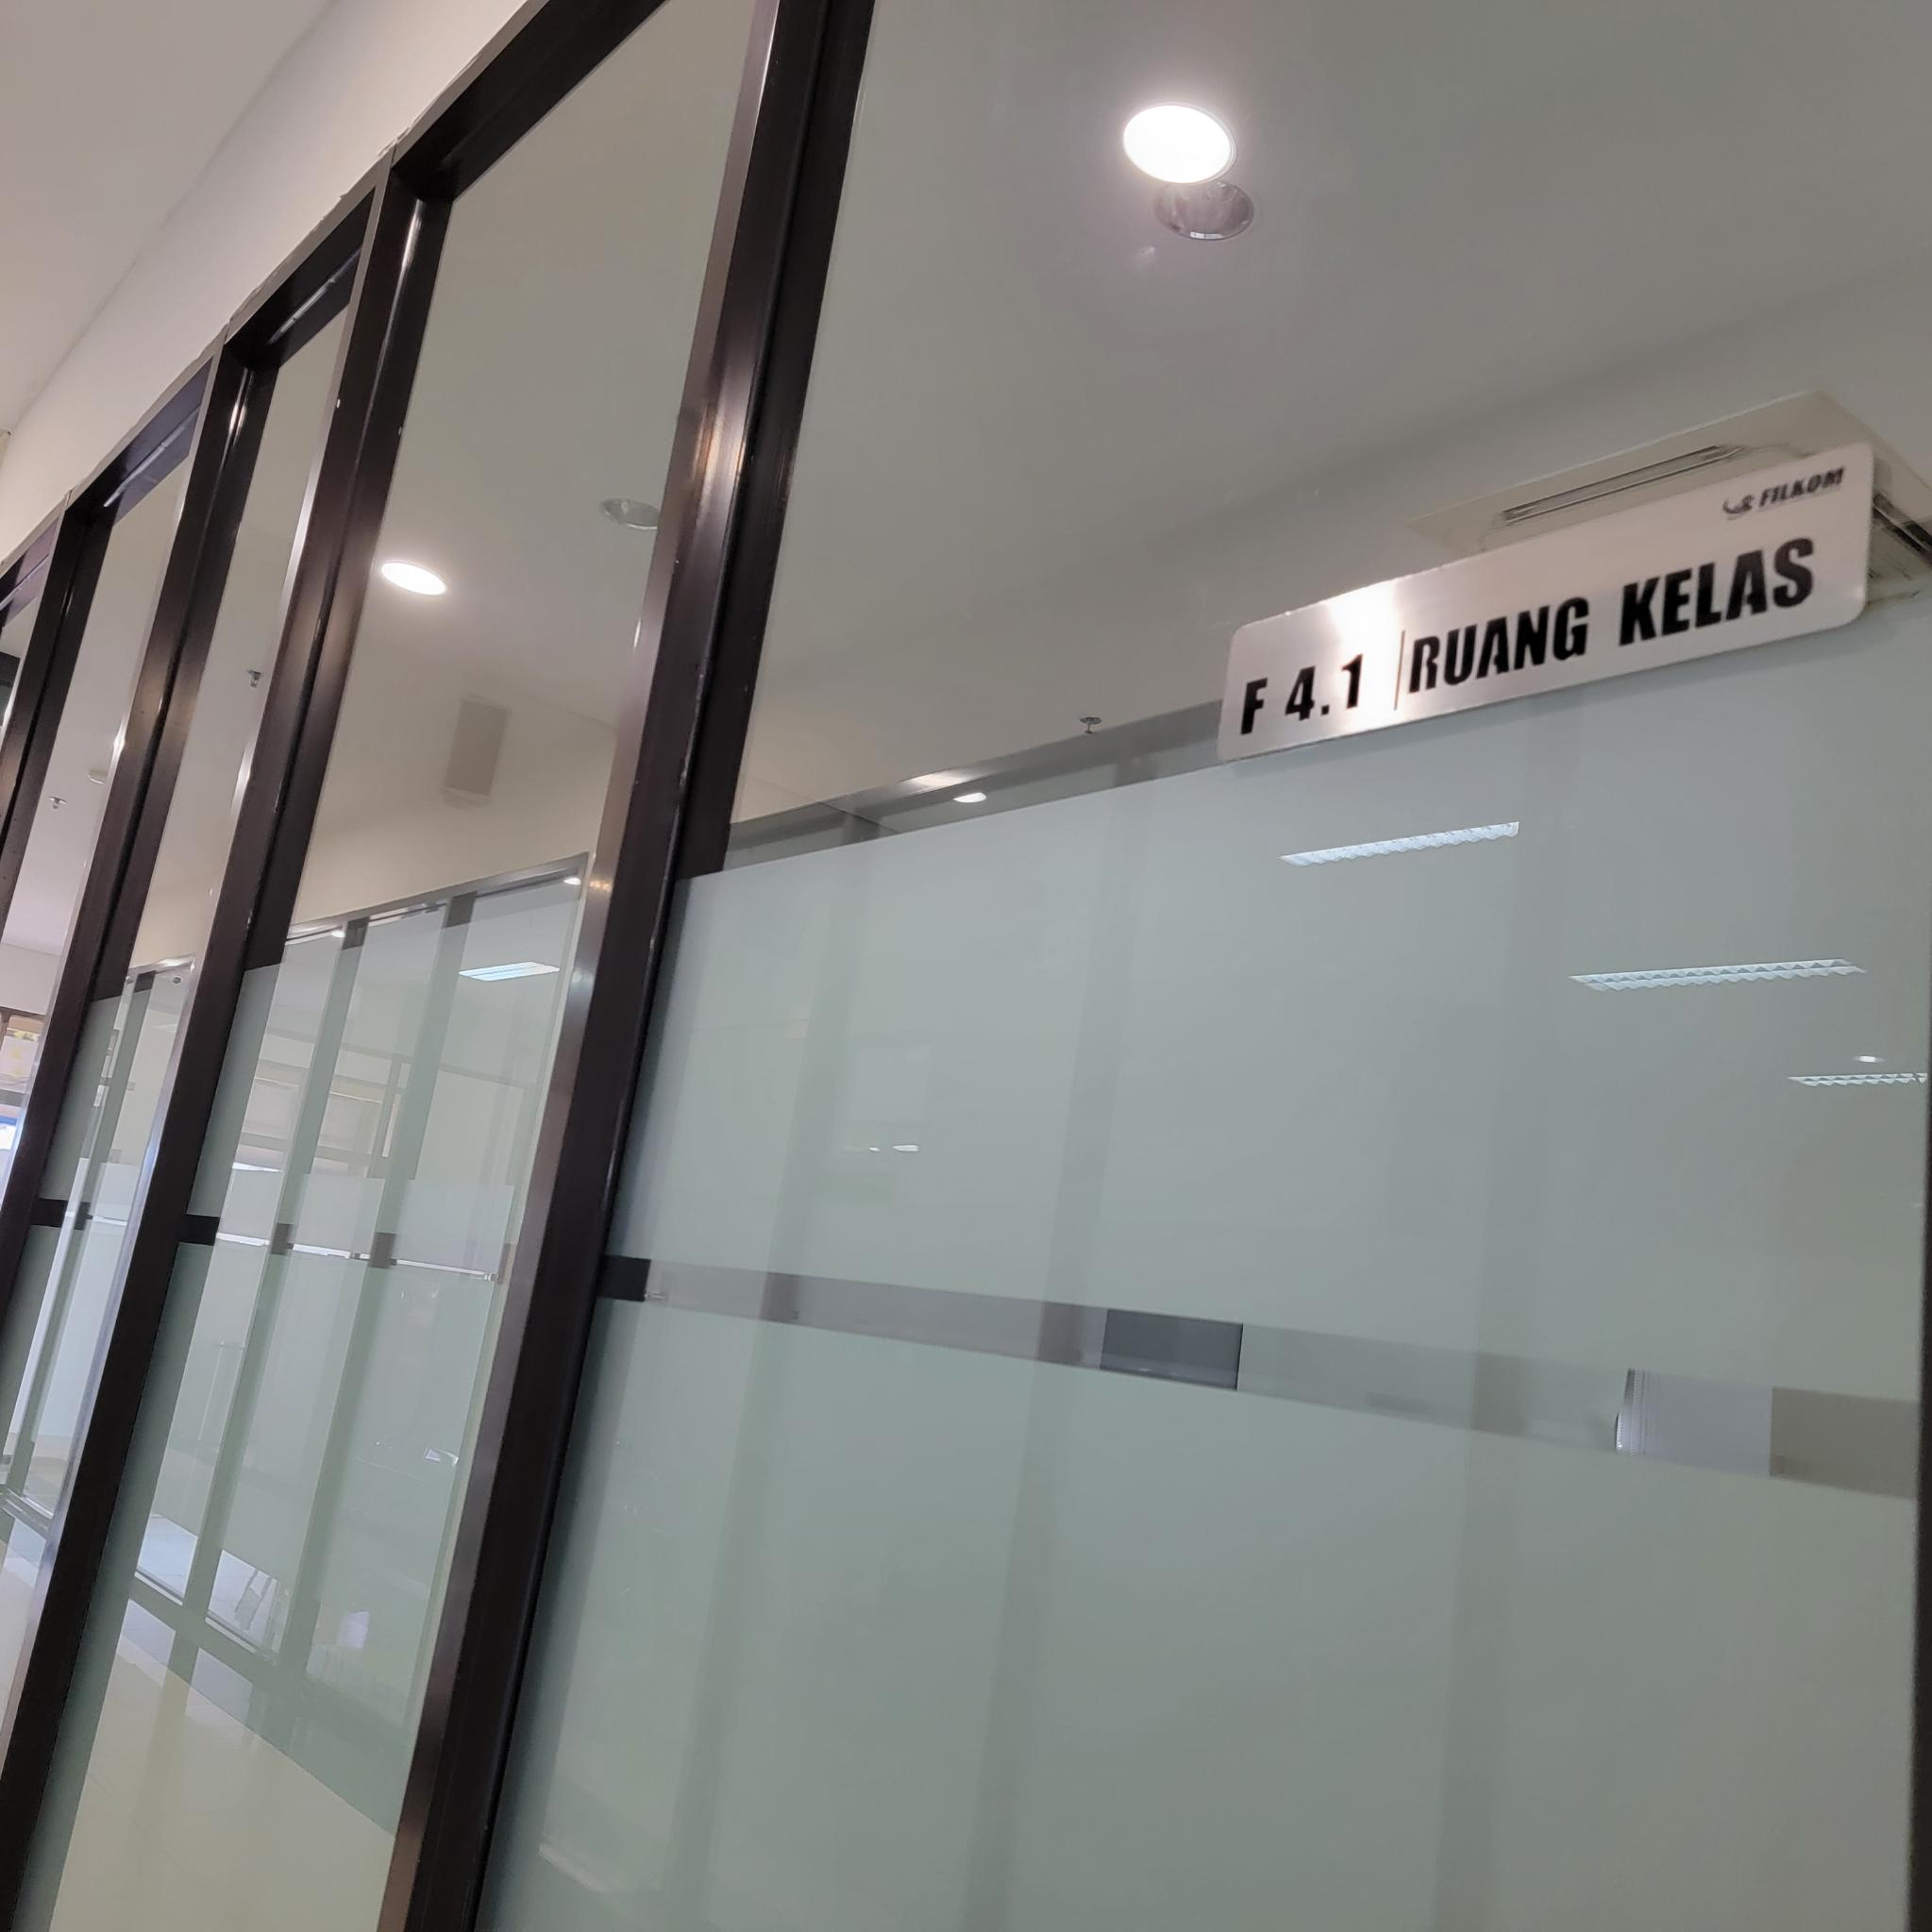plate: (1219, 437, 1874, 764)
